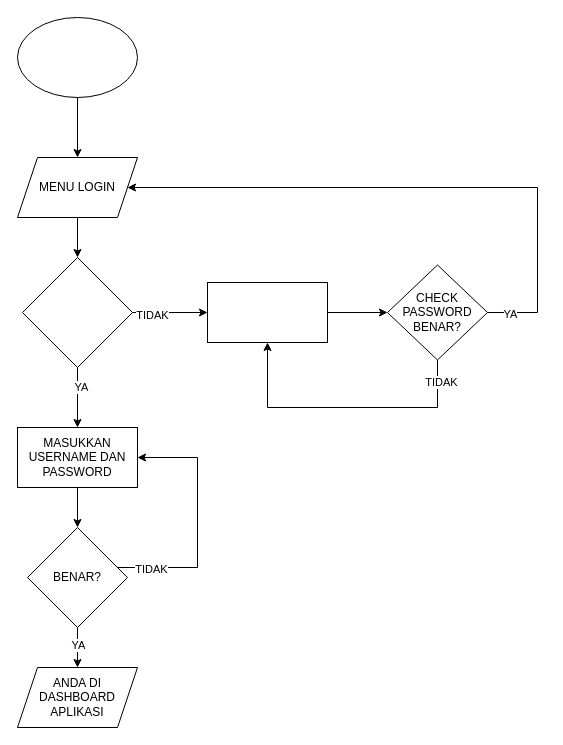
The diagram is 563 pixels wide and 745 high, and some of its shapes have lost their labels. The shapes that lost their labels are listed below. From the top down, each one's centre as x and y in pixels, then its label:
At point 77,57: "MULAI".
At point 77,312: "SUDAH REGISTRASI?".
At point 267,312: "BUAT USERNAME, PASSWORD".
